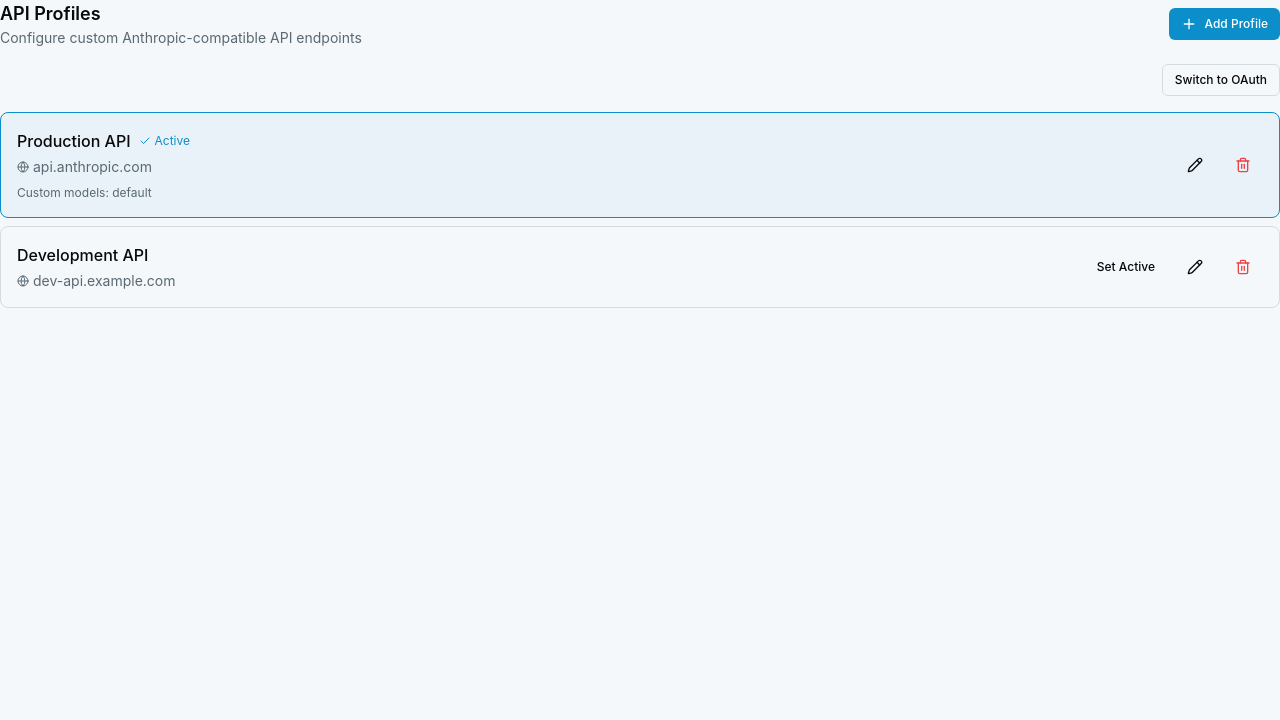
Scenario: ProfileList - Delete Confirmation Dialog › should close dialog when cancel is clicked
Note: Click delete button (find by test id)
Click the button with test id "profile-delete-button-profile-1": (1243, 165) [1223,149,1263,181]
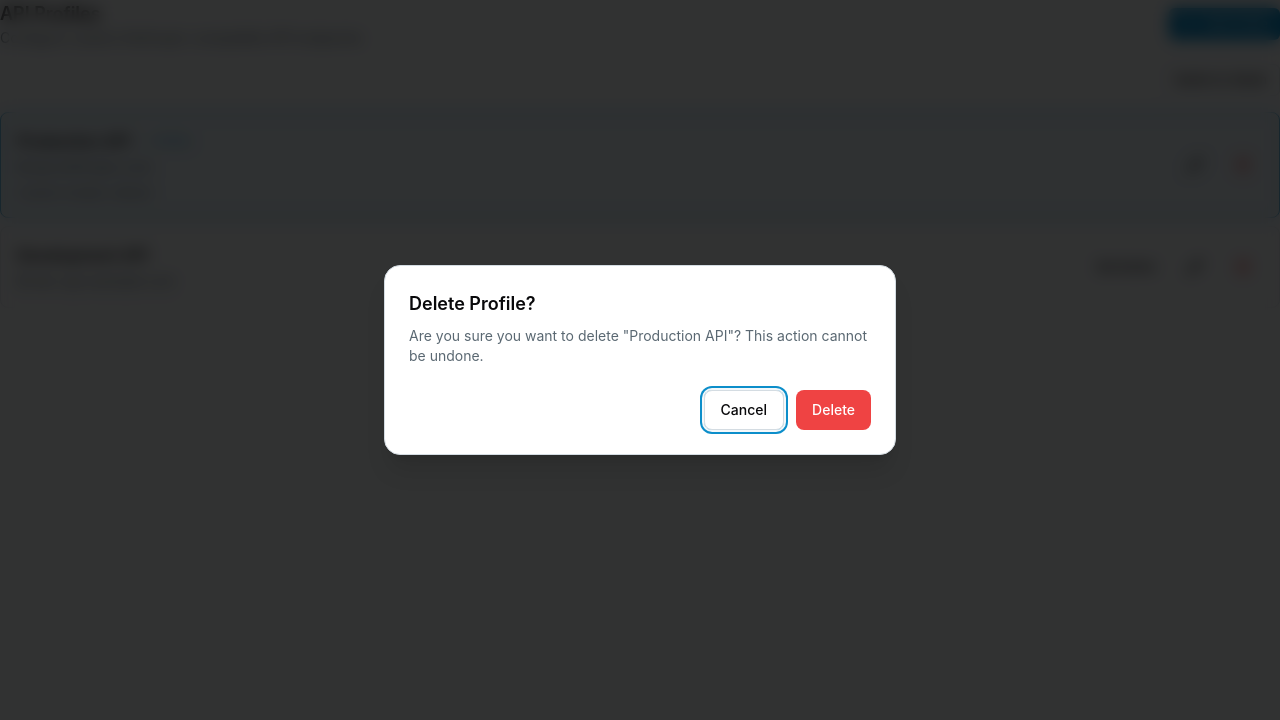
Note: Click cancel
Click the button "Cancel": (744, 410) [704,390,784,430]
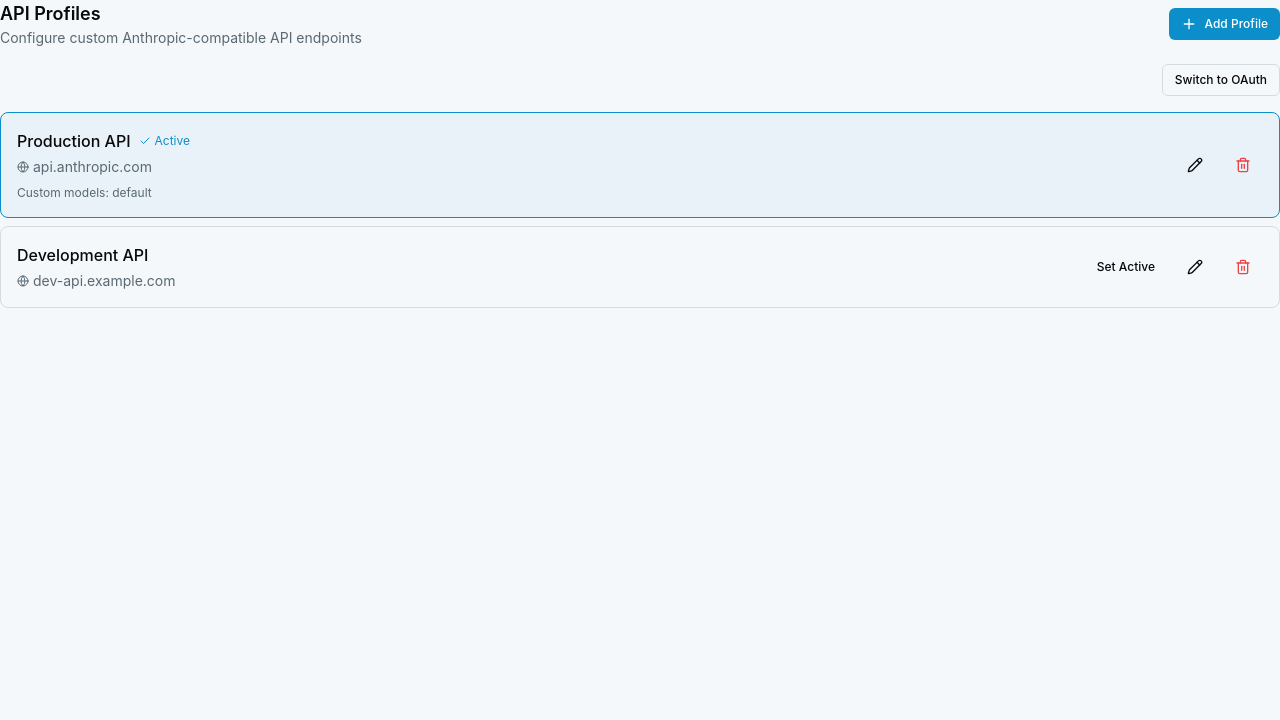
Expected: the heading "Production API" is shown, [17,129,131,153]
Now the heading "Delete Profile?" is gone
